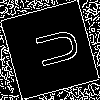U: (25, 25, 82, 72)
